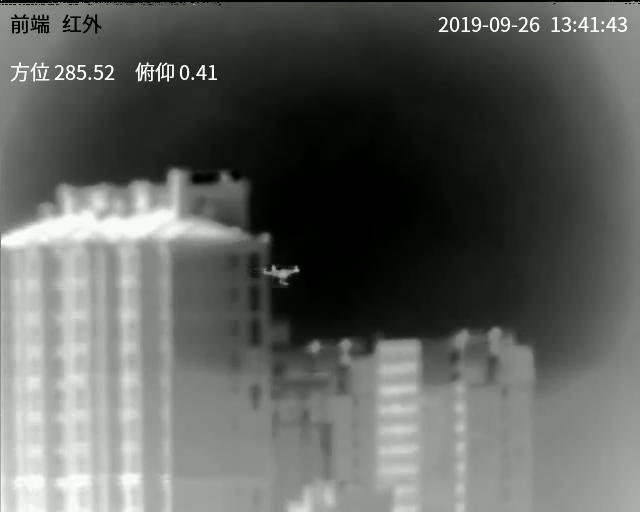uav: (260, 260, 306, 288)
